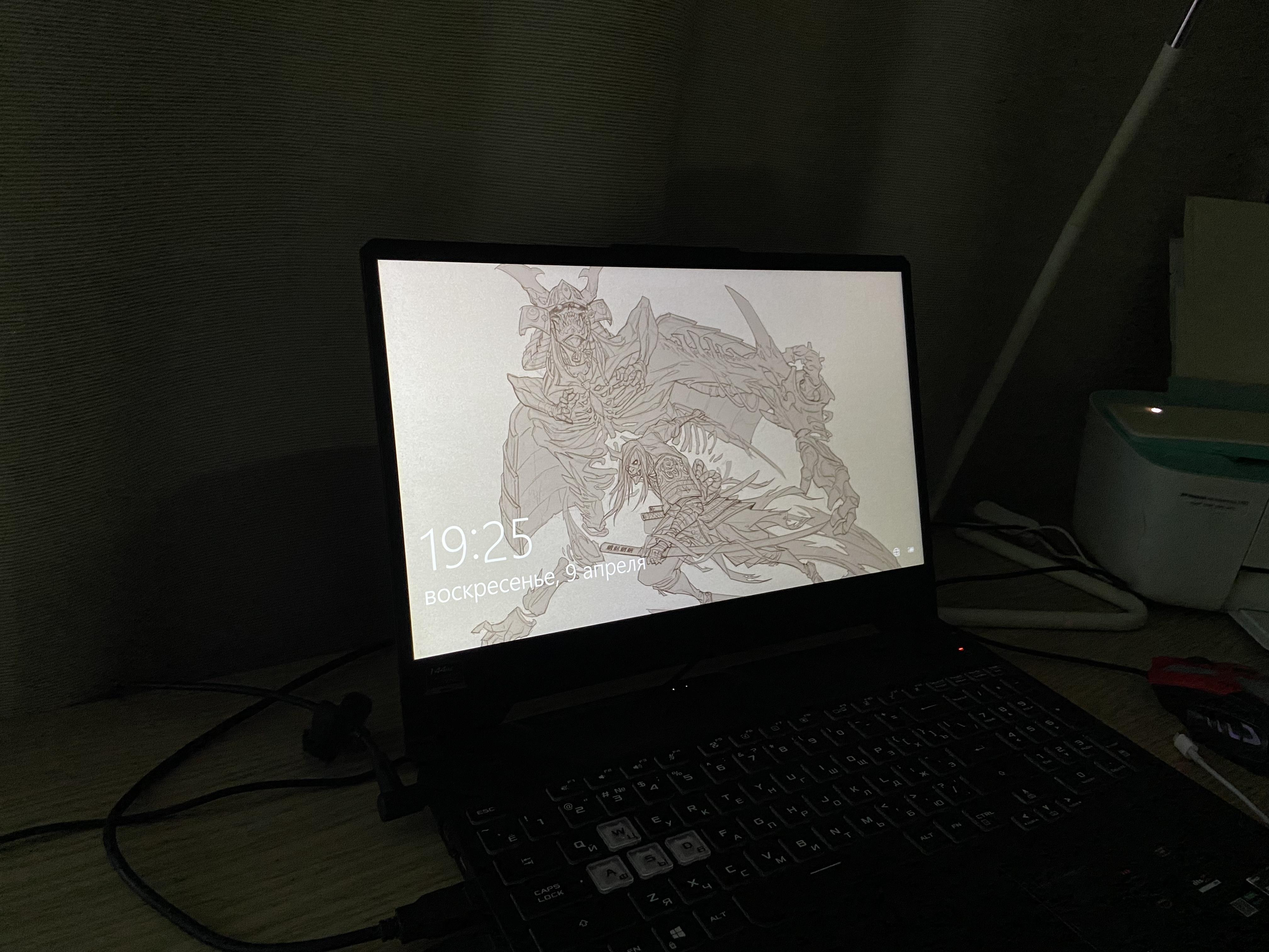monitor: (356, 235, 938, 741)
